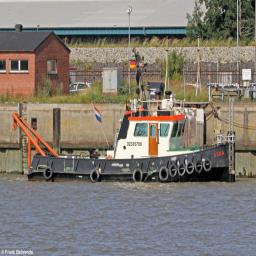tugboat: (12, 81, 241, 192)
